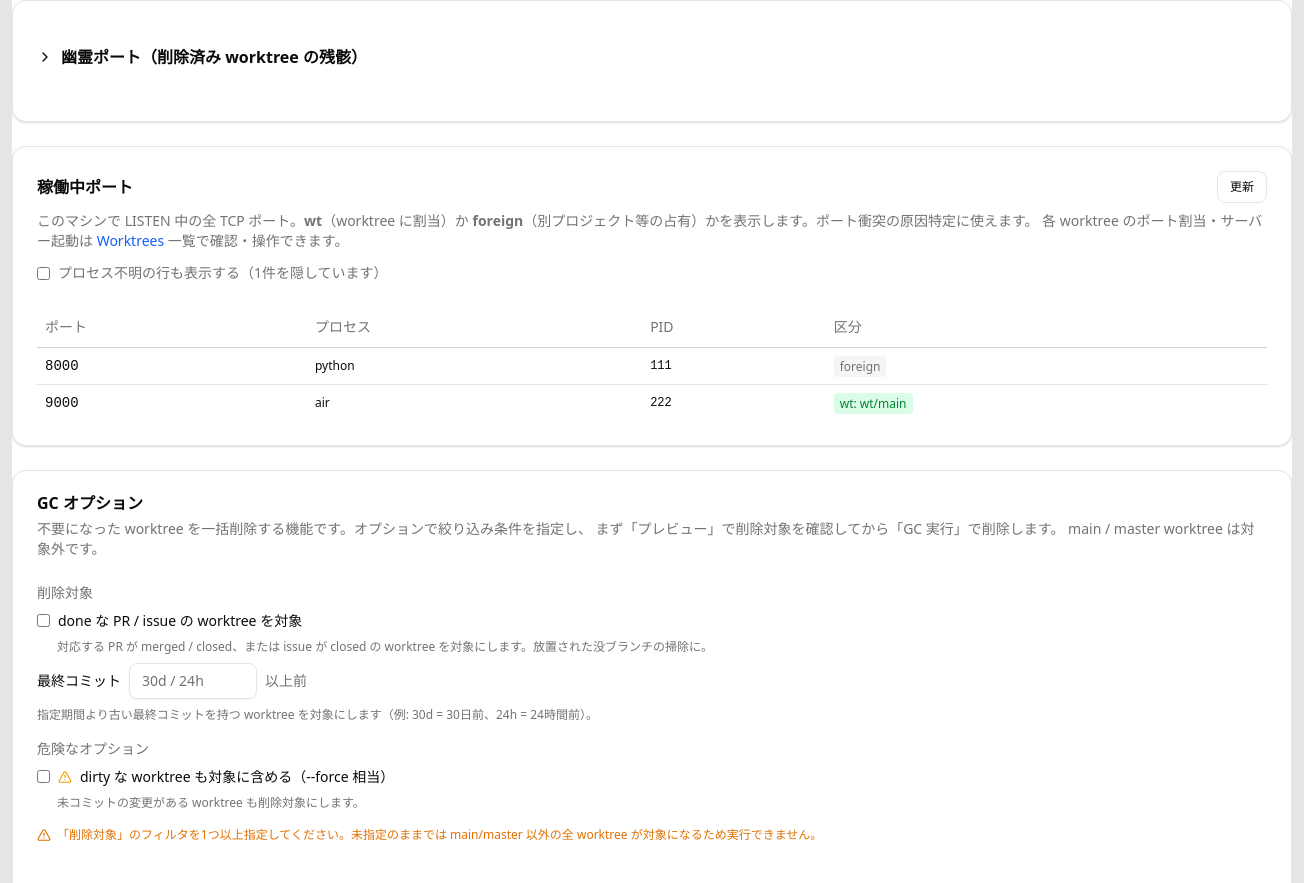
Test: MaintenancePage (Ports + GC combined) › hides unknown-proc rows by default and reveals them via the toggle
Check: the text "8000" is shown, box [37,347,307,384]
Check: the text "7000" is not shown
Click the checkbox labelled "プロセス不明の行も表示する（1件を隠しています）" at (44, 273), box [37,266,50,280]
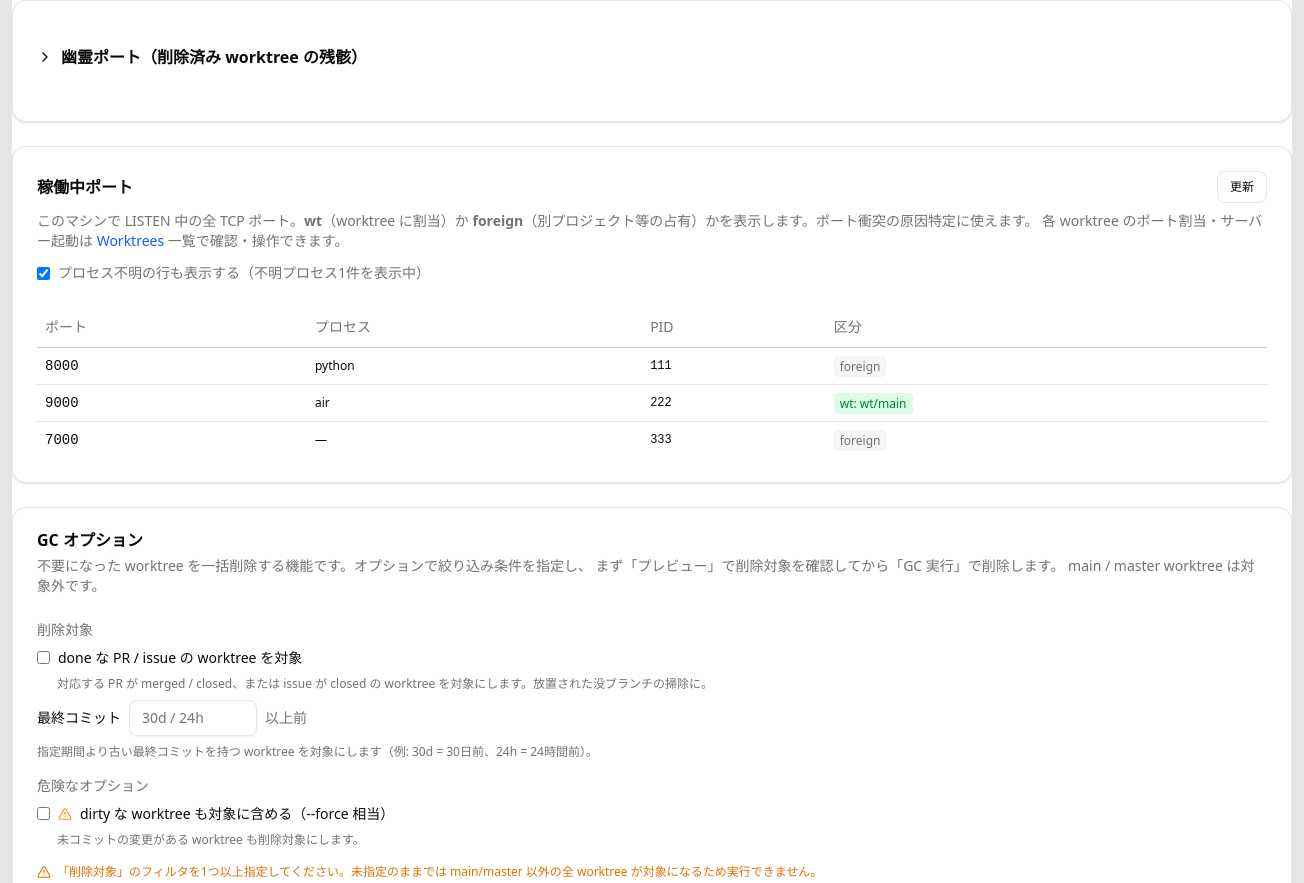
Check: the text "7000" is shown, box [37,421,307,458]
Check: the text "プロセス不明の行も表示する（不明プロセス1件を表示中）" is shown, box [37,263,430,282]
